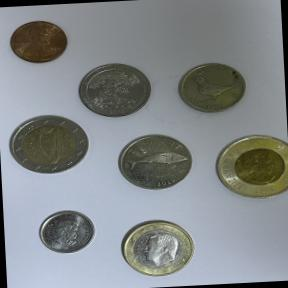1 Euro-B: (116, 214, 205, 282)
2 Euro-B: (4, 111, 94, 180)
Canada-10cent-B: (35, 206, 101, 260)
Canada-2Dollar-B: (203, 122, 288, 205)
Croatia-2Kune-B: (112, 128, 199, 196)
US-1cent-B: (3, 12, 76, 70)
US-25cent-B: (72, 57, 158, 122)
